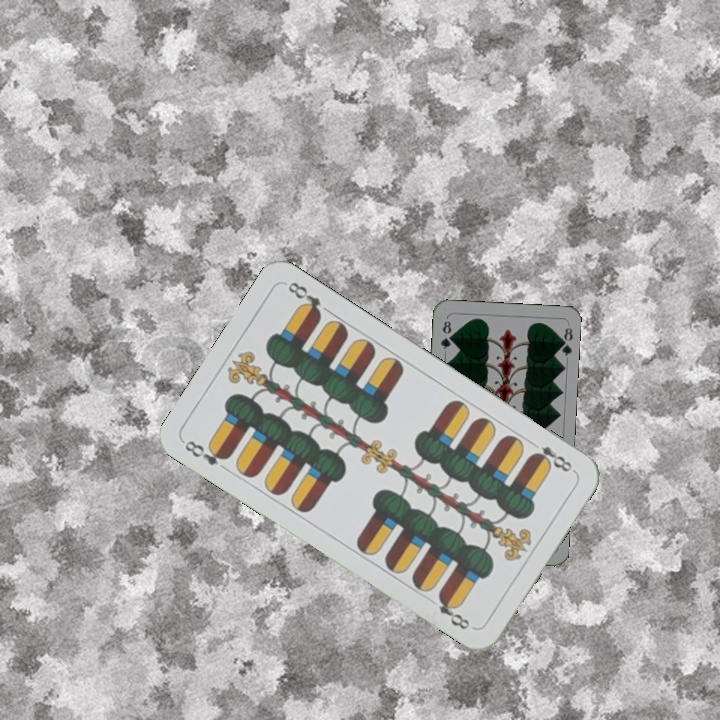E8: (180, 436, 233, 469), (527, 441, 577, 475)
G8: (436, 316, 455, 352)
